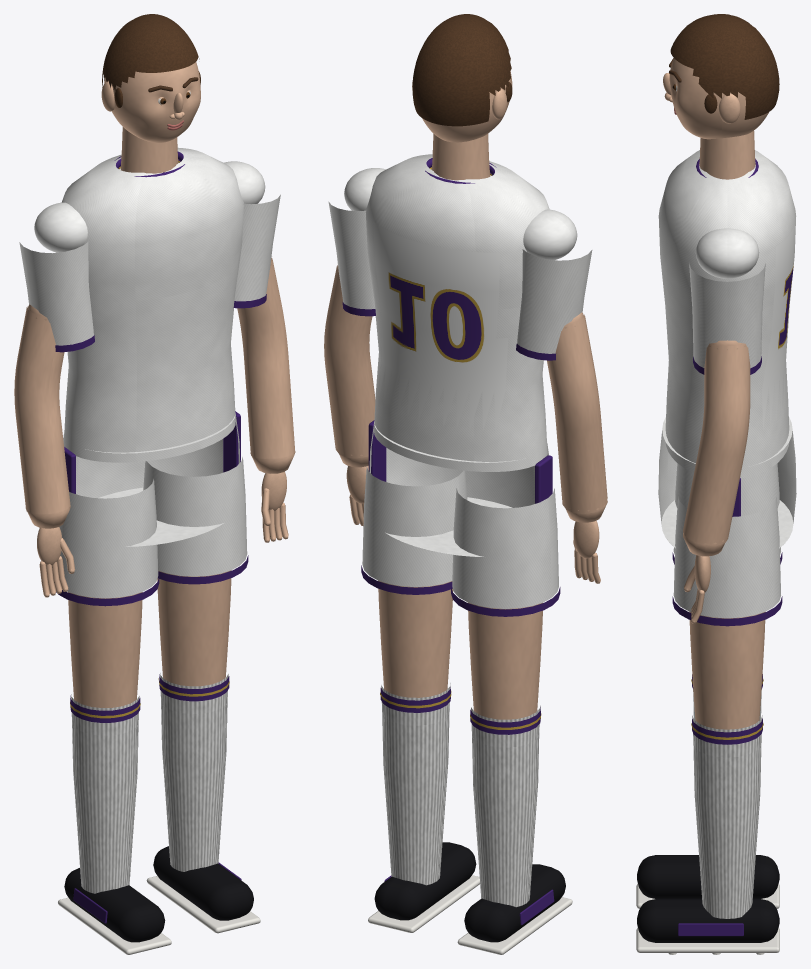
Rendered from futbolista.glb.
The picture shows the model from 3 angles, left to right: view 1: azimuth 30°, elevation 25°; view 2: azimuth 150°, elevation 25°; view 3: azimuth 270°, elevation 25°; orthographic projection.
Visible parts, largest first — view 1: Cuerpo, PiernaIzq, PiernaDer, BrazoIzq, BrazoDer; view 2: Cuerpo, PiernaIzq, PiernaDer, BrazoIzq, BrazoDer; view 3: Cuerpo, PiernaDer, BrazoDer, PiernaIzq.
Part boxes in pixels (left/top/right/bottom): Cuerpo: left=34, top=14, right=265, bottom=546; PiernaIzq: left=56, top=479, right=171, bottom=954; PiernaDer: left=143, top=457, right=260, bottom=933; BrazoIzq: left=14, top=241, right=94, bottom=597; BrazoDer: left=233, top=194, right=295, bottom=542; Cuerpo: left=344, top=14, right=577, bottom=557; PiernaIzq: left=451, top=488, right=572, bottom=954; PiernaDer: left=361, top=466, right=479, bottom=932; BrazoIzq: left=516, top=249, right=607, bottom=583; BrazoDer: left=324, top=201, right=375, bottom=525; Cuerpo: left=658, top=14, right=796, bottom=548; PiernaDer: left=636, top=496, right=782, bottom=954; BrazoDer: left=683, top=263, right=765, bottom=623; PiernaIzq: left=636, top=463, right=782, bottom=908.
Bounding box in the file's own units: 0.57 × 1.83 × 0.292.
18 materials, 6 textured.
